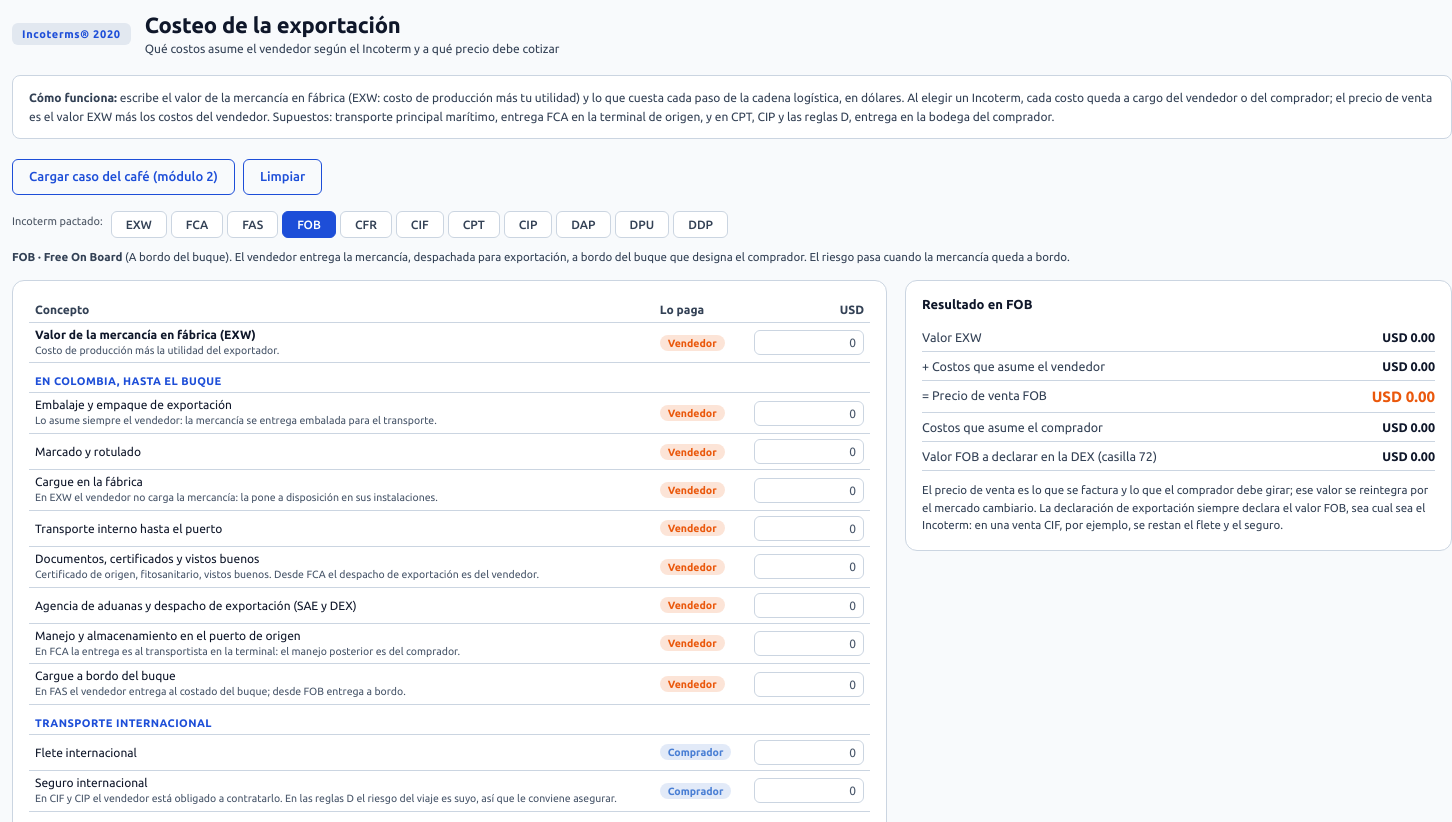
Test: costeo de la exportación › al escribir un costo se recalcula el precio
The image size is (1452, 822).
Type "1000" into the field labelled "Valor de la mercancía en fábrica (EXW)" at (809, 343), box [754,330,864,355]
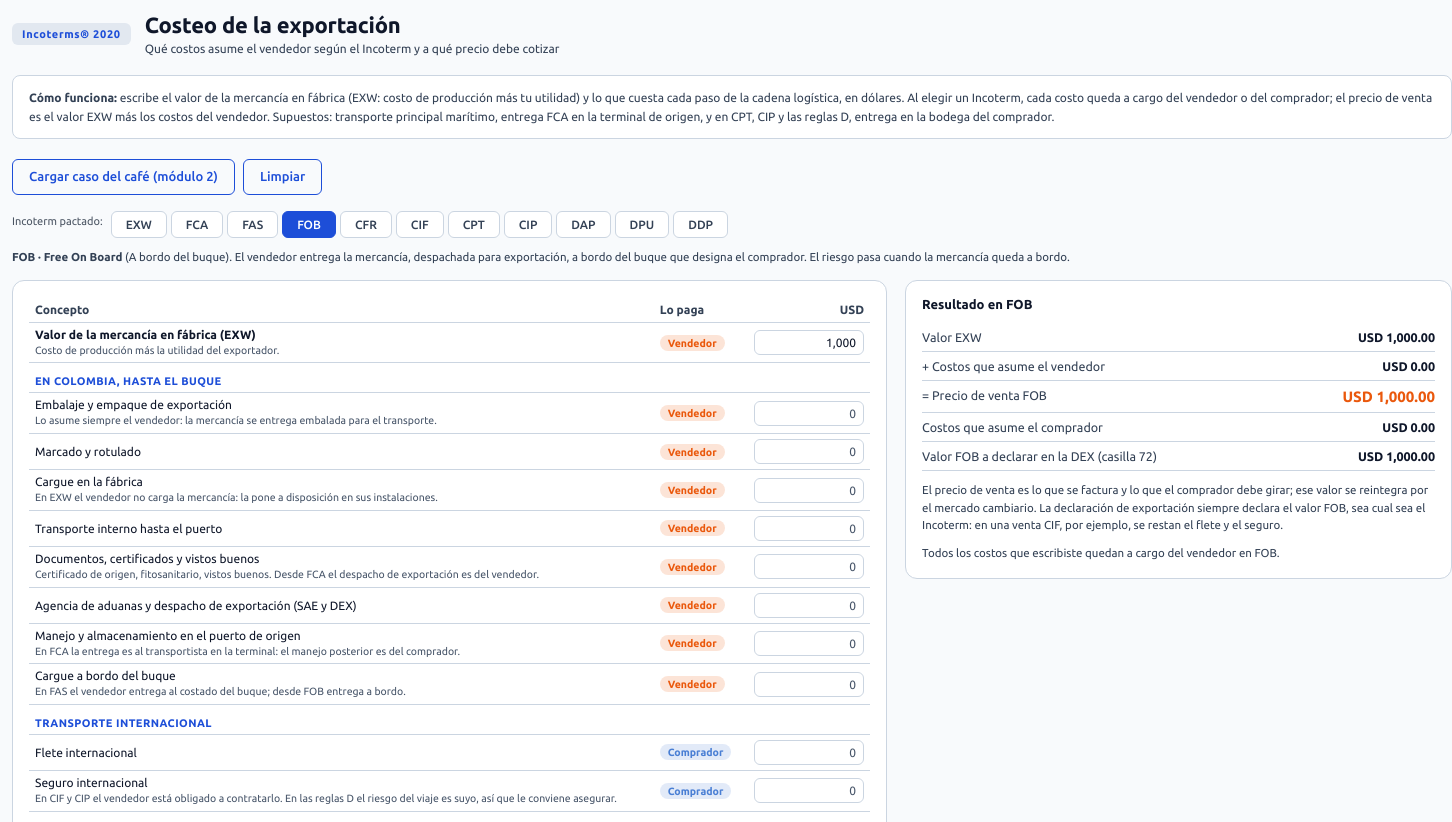
Type "50" into the field labelled "Embalaje y empaque de exportación" at (809, 413), box [754,401,864,426]
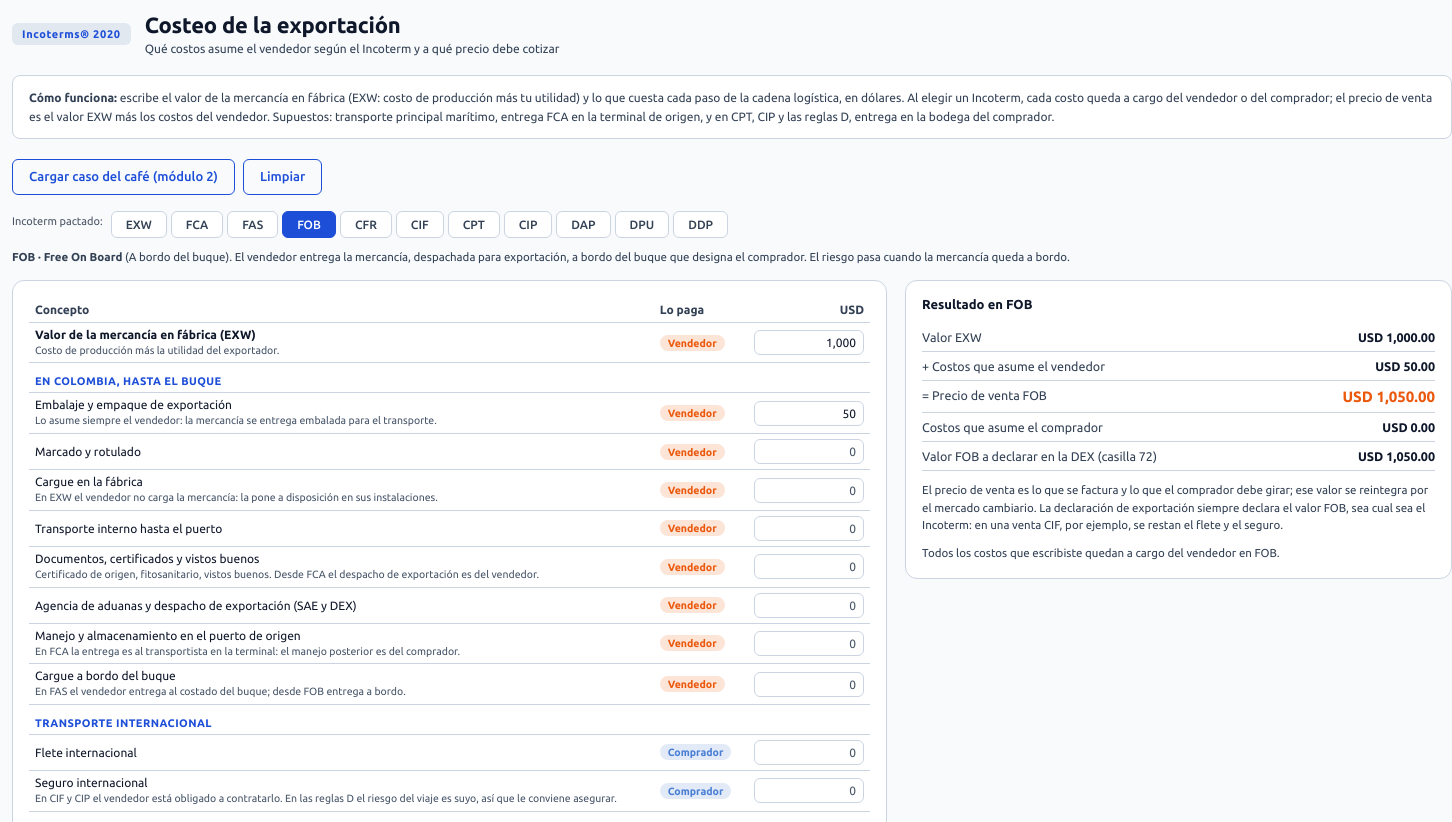
Expected: the text "USD 1,050.00" in the row of "= Precio de venta" is shown, [1342,388,1435,405]
